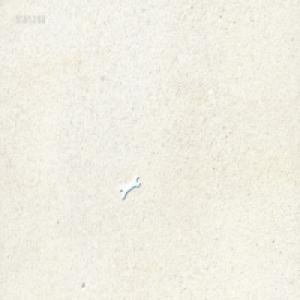Wrench: (119, 175, 141, 201)
